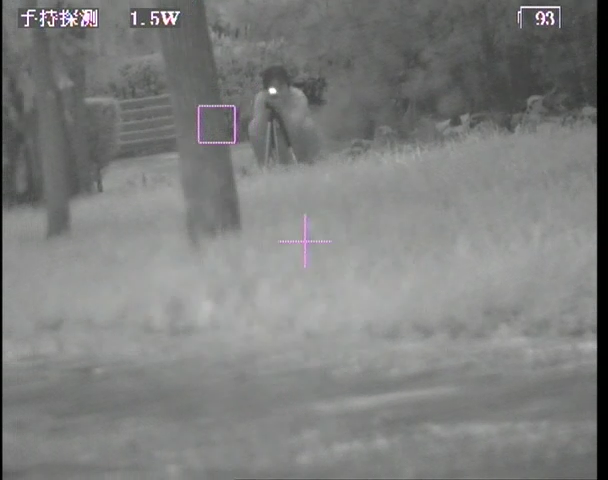my: (267, 85, 279, 97)
